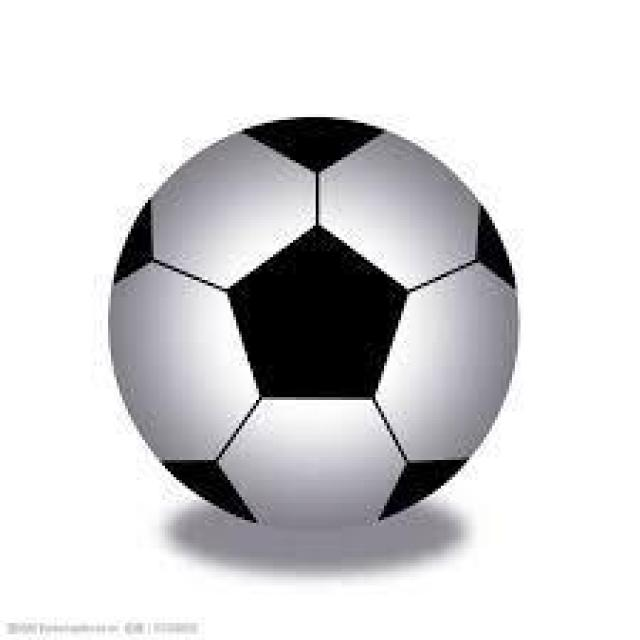Soccer Ball: (108, 114, 515, 537)
